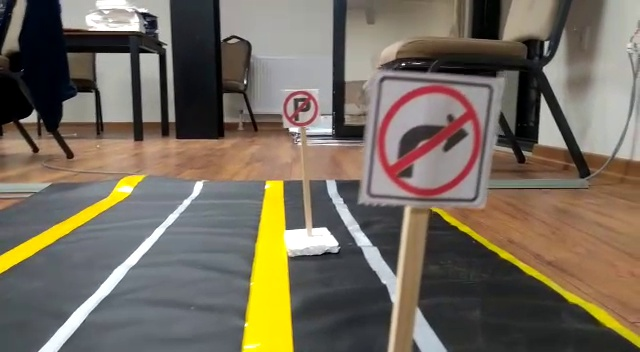park_yapilmaz: (280, 90, 320, 125)
saga_donulmez: (379, 77, 484, 200)
